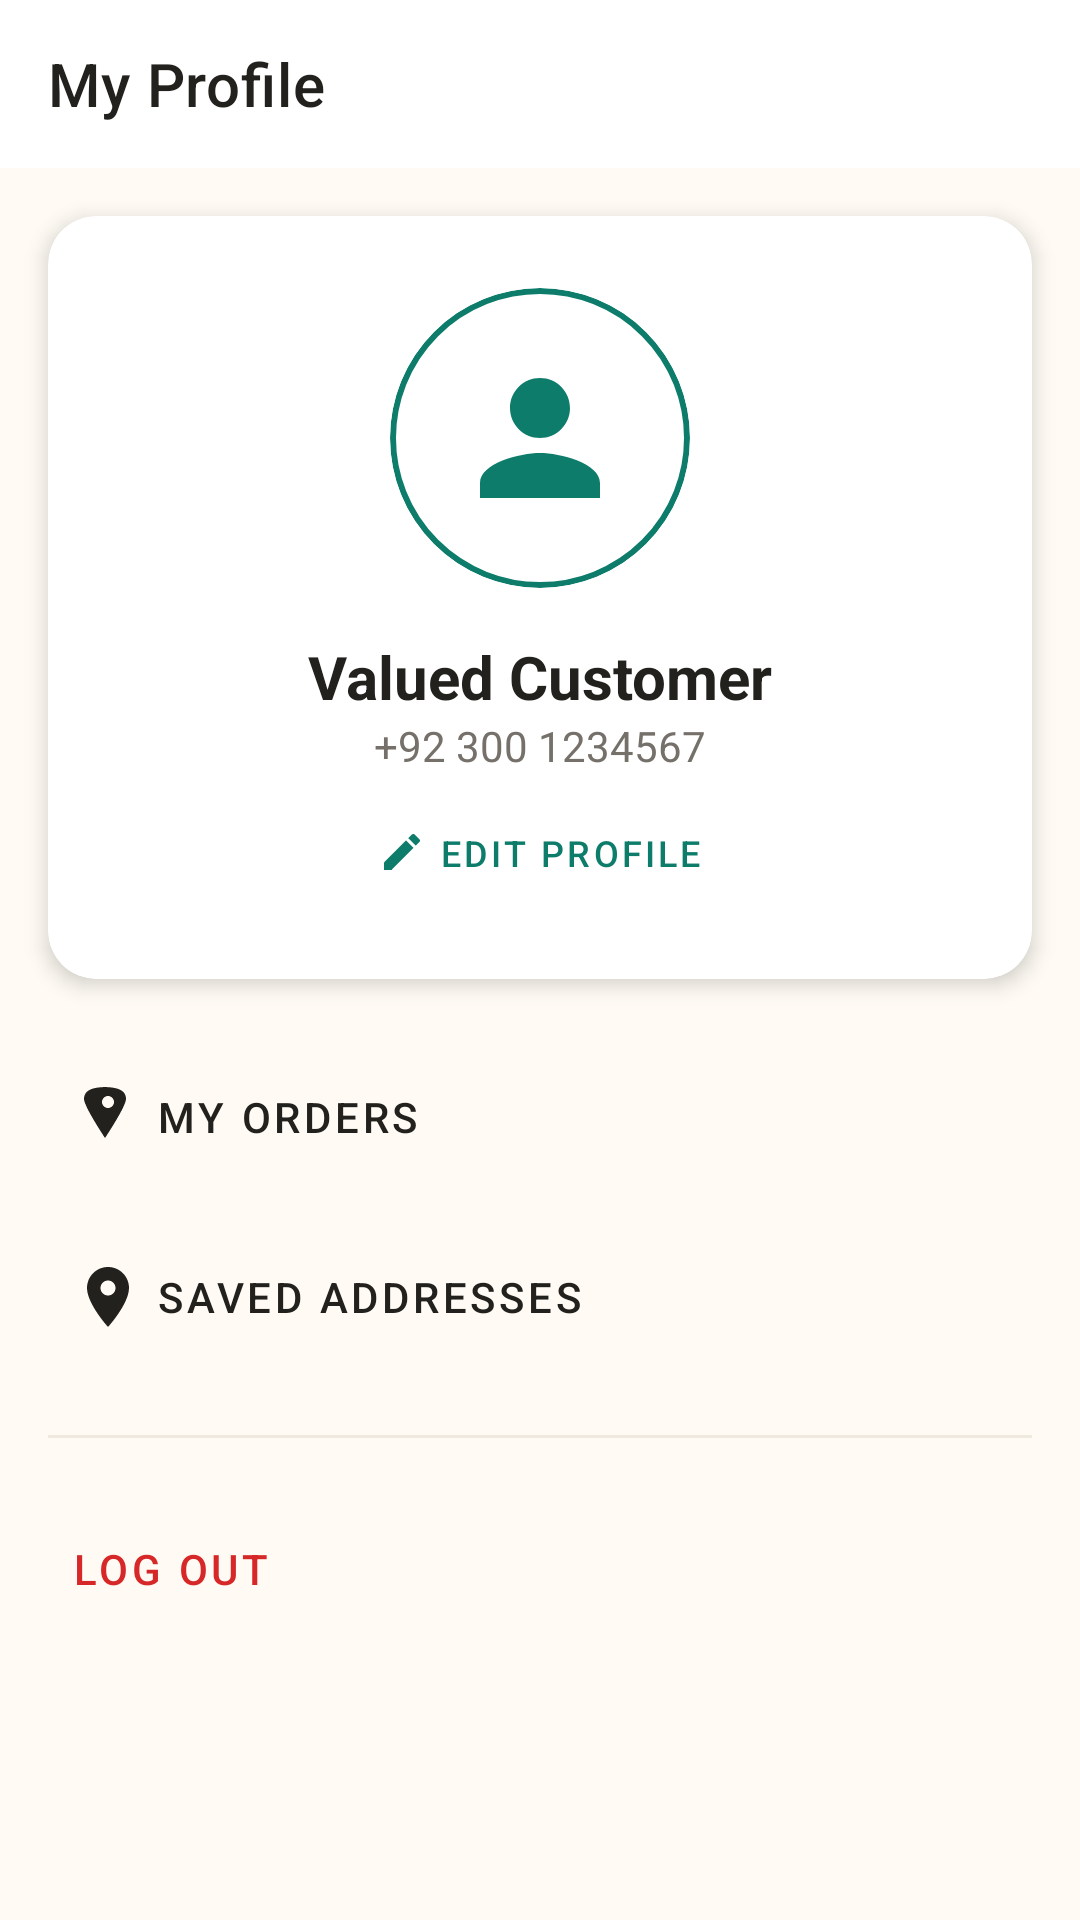

Point at icon controls on the screen. Image size 1080×1920, points as (x,y).
profile: (540,438)
